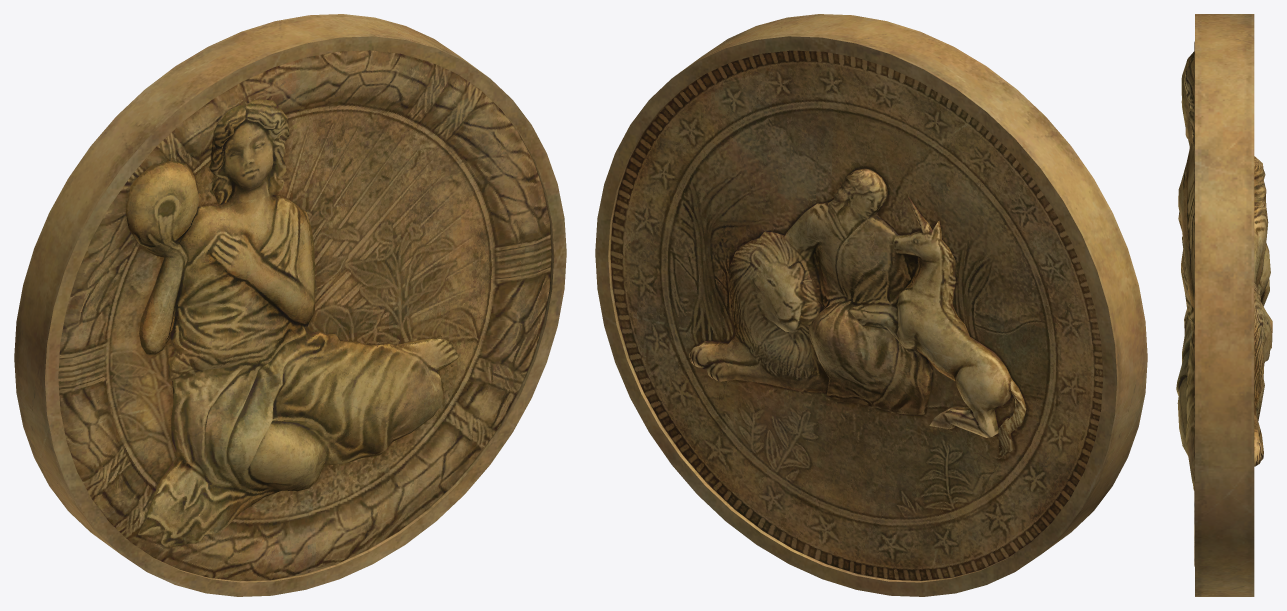
Rendered from sm73_145_virginmedal02a.fbx.
3 views of the same model, side by side, from view 1: azimuth 30°, elevation 25°; view 2: azimuth 150°, elevation 25°; view 3: azimuth 270°, elevation 25° (orthographic). The views are drawn at different scales.
Visible parts, largest first — view 1: LOD_1_Group_0_Sub_1__sm73_145_VirginMedal02A_A_Mat__Env_c9a2, LOD_1_Group_1_Sub_1__sm73_145_VirginMedal02A_A_Mat__Env_2ff3, LOD_1_Group_4_Sub_1__sm73_145_VirginMedal02A_A_Mat__Env_18ec; view 2: LOD_1_Group_3_Sub_1__sm73_145_VirginMedal02A_A_Mat__Env_6b9b, LOD_1_Group_4_Sub_1__sm73_145_VirginMedal02A_A_Mat__Env_18ec, LOD_1_Group_2_Sub_1__sm73_145_VirginMedal02A_A_Mat__Env_6271; view 3: LOD_1_Group_4_Sub_1__sm73_145_VirginMedal02A_A_Mat__Env_18ec, LOD_1_Group_1_Sub_1__sm73_145_VirginMedal02A_A_Mat__Env_2ff3, LOD_1_Group_2_Sub_1__sm73_145_VirginMedal02A_A_Mat__Env_6271, LOD_1_Group_0_Sub_1__sm73_145_VirginMedal02A_A_Mat__Env_c9a2.
Boxes of the visible parts, left/top/right/bottom form: LOD_1_Group_0_Sub_1__sm73_145_VirginMedal02A_A_Mat__Env_c9a2: left=58, top=50, right=551, bottom=580; LOD_1_Group_1_Sub_1__sm73_145_VirginMedal02A_A_Mat__Env_2ff3: left=125, top=99, right=459, bottom=548; LOD_1_Group_4_Sub_1__sm73_145_VirginMedal02A_A_Mat__Env_18ec: left=14, top=14, right=566, bottom=596; LOD_1_Group_3_Sub_1__sm73_145_VirginMedal02A_A_Mat__Env_6b9b: left=610, top=50, right=1103, bottom=580; LOD_1_Group_4_Sub_1__sm73_145_VirginMedal02A_A_Mat__Env_18ec: left=595, top=14, right=1147, bottom=596; LOD_1_Group_2_Sub_1__sm73_145_VirginMedal02A_A_Mat__Env_6271: left=689, top=168, right=1026, bottom=458; LOD_1_Group_4_Sub_1__sm73_145_VirginMedal02A_A_Mat__Env_18ec: left=1195, top=14, right=1254, bottom=596; LOD_1_Group_1_Sub_1__sm73_145_VirginMedal02A_A_Mat__Env_2ff3: left=1176, top=51, right=1194, bottom=490; LOD_1_Group_2_Sub_1__sm73_145_VirginMedal02A_A_Mat__Env_6271: left=1254, top=156, right=1272, bottom=466; LOD_1_Group_0_Sub_1__sm73_145_VirginMedal02A_A_Mat__Env_c9a2: left=1194, top=41, right=1194, bottom=566.
Size of the model in its own units: 0.16 by 0.16 by 0.0265.
